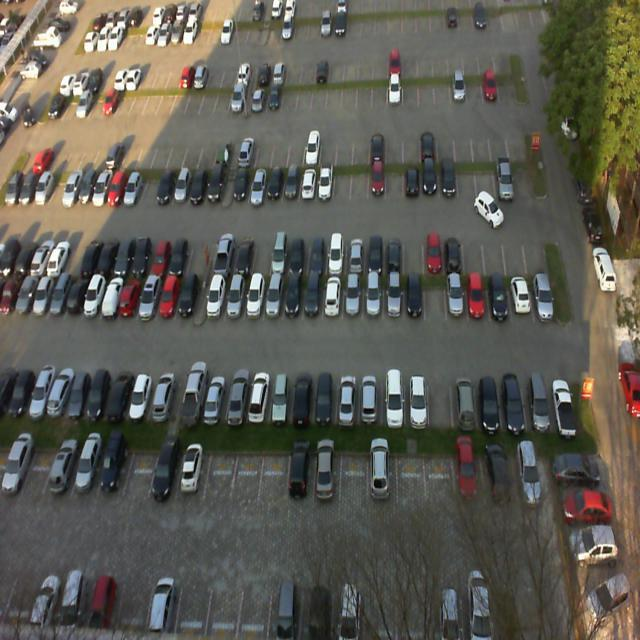space-empty: (123, 442, 158, 502), (231, 451, 264, 504), (204, 448, 238, 498), (21, 446, 55, 494), (259, 448, 290, 500), (428, 375, 454, 428), (483, 227, 507, 275), (525, 229, 548, 272), (505, 227, 526, 272), (188, 239, 212, 278), (139, 165, 162, 205), (511, 156, 534, 196), (404, 226, 424, 272), (426, 276, 446, 322), (464, 228, 484, 272), (251, 235, 272, 272), (458, 162, 478, 198), (478, 158, 496, 198), (333, 165, 350, 202), (388, 162, 404, 200), (351, 164, 367, 198)
space-occupied: (94, 445, 132, 502), (71, 446, 106, 501), (148, 444, 182, 500), (43, 445, 78, 499), (545, 370, 576, 426), (499, 373, 528, 432), (175, 445, 208, 496), (312, 451, 342, 507), (223, 370, 254, 424), (523, 371, 550, 428), (64, 367, 93, 420), (476, 372, 502, 429), (117, 271, 146, 322), (222, 272, 249, 326), (83, 371, 112, 421), (288, 449, 314, 504), (106, 371, 134, 422), (452, 374, 479, 426), (136, 267, 162, 320), (127, 370, 154, 420), (312, 372, 336, 428), (268, 373, 294, 424), (154, 274, 180, 324), (203, 370, 229, 420), (246, 372, 272, 422), (262, 270, 286, 324), (530, 270, 557, 318), (148, 374, 175, 422), (359, 371, 382, 426), (174, 272, 198, 324), (382, 371, 405, 424), (101, 270, 125, 320), (241, 275, 265, 325), (335, 373, 359, 423), (290, 372, 313, 424), (405, 374, 428, 426), (486, 273, 511, 320), (181, 373, 206, 418), (443, 226, 466, 273), (205, 273, 225, 327), (130, 236, 156, 276), (113, 238, 140, 276), (509, 276, 532, 320), (303, 276, 324, 324), (155, 165, 178, 208), (444, 277, 467, 320), (467, 275, 488, 322), (148, 237, 172, 278), (188, 164, 211, 206), (363, 276, 384, 322), (282, 276, 302, 324), (167, 238, 192, 276), (322, 277, 343, 322), (425, 229, 445, 276), (287, 234, 310, 274), (404, 274, 424, 320), (172, 165, 193, 208), (382, 231, 404, 272), (229, 238, 252, 277), (204, 166, 226, 206), (231, 164, 252, 205), (213, 239, 236, 276), (384, 276, 402, 322), (307, 234, 328, 273), (345, 231, 364, 274), (268, 236, 290, 272), (345, 275, 362, 320), (324, 235, 344, 273), (364, 235, 383, 273), (299, 166, 317, 205), (494, 160, 514, 195), (267, 166, 284, 207), (283, 164, 300, 205), (250, 166, 268, 204), (368, 162, 386, 200), (422, 163, 440, 198), (403, 163, 420, 198), (440, 162, 458, 195), (316, 166, 332, 200)
